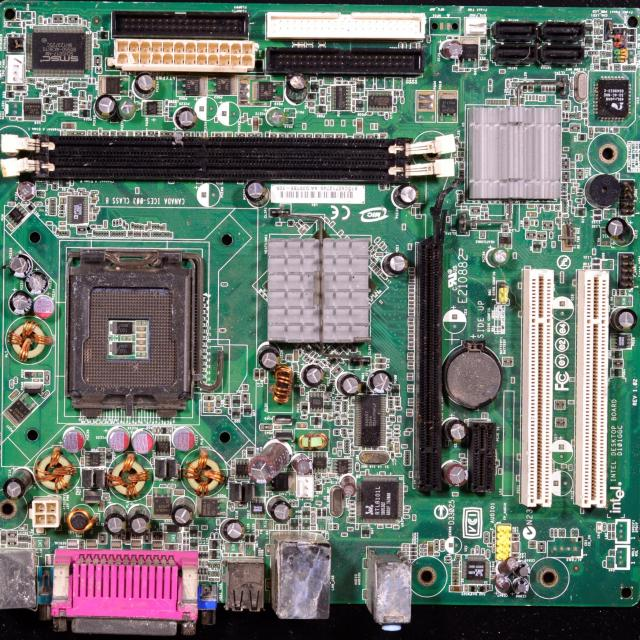Capacitor Jumper: (608, 218, 633, 245), (442, 40, 464, 59), (448, 585, 464, 592), (253, 117, 259, 131), (203, 401, 214, 408), (528, 80, 534, 92), (526, 211, 538, 217), (8, 391, 18, 398), (146, 495, 152, 506), (136, 346, 146, 352), (296, 423, 308, 428), (394, 443, 400, 453), (136, 326, 147, 331), (136, 340, 146, 345), (204, 408, 214, 413), (294, 351, 298, 361), (174, 490, 184, 494), (137, 334, 146, 338), (7, 224, 13, 230), (300, 387, 304, 395), (171, 448, 175, 456), (452, 571, 460, 575), (452, 575, 460, 579), (40, 16, 44, 24), (58, 226, 66, 230), (98, 448, 105, 452), (81, 458, 85, 465), (402, 543, 409, 547), (178, 544, 182, 551), (79, 96, 86, 100), (8, 202, 15, 206), (104, 221, 108, 228), (162, 223, 166, 230), (484, 412, 488, 418), (274, 426, 282, 429), (387, 444, 393, 448), (465, 584, 468, 592), (570, 78, 574, 84), (21, 92, 27, 96), (79, 105, 85, 109), (353, 120, 357, 126), (374, 124, 378, 130), (370, 124, 374, 130), (562, 128, 568, 132), (32, 12, 36, 18), (563, 147, 569, 151), (529, 545, 536, 548), (402, 548, 409, 551), (402, 552, 409, 555), (539, 95, 542, 102), (91, 197, 98, 200), (561, 199, 568, 202), (92, 210, 99, 213), (148, 222, 151, 229), (552, 241, 555, 248), (459, 68, 464, 72), (38, 78, 43, 82), (502, 100, 506, 105), (494, 100, 498, 105), (341, 121, 345, 126), (43, 19, 47, 24), (94, 32, 97, 38), (19, 34, 25, 37), (482, 413, 485, 419), (94, 39, 97, 45), (154, 426, 156, 435), (606, 44, 609, 50), (609, 44, 612, 50), (186, 544, 189, 550), (205, 560, 208, 566), (202, 560, 205, 566), (452, 582, 458, 585), (532, 95, 535, 101), (497, 99, 500, 105), (510, 102, 516, 105), (309, 109, 315, 112), (259, 119, 262, 125), (331, 120, 334, 126), (303, 123, 306, 129), (570, 162, 576, 165), (561, 189, 567, 192), (65, 192, 71, 195), (60, 198, 63, 204), (528, 205, 534, 208), (60, 222, 66, 225), (558, 223, 561, 229), (83, 20, 86, 26), (322, 473, 327, 476), (60, 80, 63, 85), (489, 86, 492, 91), (542, 86, 545, 91), (549, 86, 552, 91), (553, 86, 556, 91), (486, 99, 489, 104), (505, 100, 508, 105), (570, 165, 575, 168), (571, 179, 576, 182), (329, 474, 336, 476), (528, 542, 535, 544), (490, 584, 492, 591), (90, 213, 92, 220), (183, 545, 185, 551), (472, 549, 474, 555), (491, 576, 497, 578), (499, 70, 505, 72), (70, 81, 72, 87), (328, 96, 330, 102), (492, 100, 495, 104), (489, 100, 492, 104), (500, 99, 502, 105), (328, 106, 331, 110), (326, 120, 328, 126), (574, 184, 580, 186), (572, 190, 576, 193), (80, 18, 82, 24), (601, 20, 603, 26), (493, 546, 495, 551), (199, 561, 201, 566), (28, 78, 30, 83), (546, 86, 548, 91), (328, 88, 330, 93), (571, 188, 576, 190), (571, 91, 573, 95), (562, 186, 566, 188)
Connector: (2, 130, 457, 162), (52, 546, 202, 635), (6, 158, 454, 182), (580, 270, 610, 505), (525, 268, 551, 508), (267, 11, 426, 42), (267, 46, 426, 76), (112, 38, 255, 71), (111, 10, 250, 42), (368, 543, 409, 640), (276, 546, 324, 628), (222, 552, 265, 622), (469, 423, 491, 486), (7, 55, 24, 85), (496, 524, 510, 559)
IC: (26, 25, 92, 78), (356, 475, 403, 522), (594, 76, 632, 122), (355, 394, 387, 446), (462, 554, 491, 585), (67, 196, 88, 224), (5, 204, 27, 227), (368, 91, 392, 112), (332, 85, 351, 111), (24, 98, 42, 121), (155, 435, 171, 456), (58, 96, 79, 112), (142, 101, 163, 116), (331, 459, 353, 473), (309, 392, 323, 413), (313, 452, 327, 472), (209, 550, 220, 560), (210, 540, 218, 548)
Resistor Jumper: (97, 31, 109, 40), (44, 370, 50, 385), (160, 426, 170, 434), (588, 50, 598, 56), (434, 540, 440, 550), (588, 128, 594, 138), (42, 390, 49, 398), (484, 532, 489, 543), (440, 540, 445, 551), (9, 379, 14, 388), (102, 496, 110, 501), (599, 50, 603, 58), (506, 80, 510, 88), (87, 101, 91, 109), (156, 427, 160, 434), (476, 546, 480, 553), (420, 552, 427, 556), (596, 56, 600, 63), (614, 68, 621, 72), (62, 198, 66, 205), (34, 202, 41, 206), (49, 208, 56, 212), (22, 21, 26, 28), (594, 27, 597, 36), (169, 426, 172, 435), (7, 33, 13, 37), (603, 52, 607, 58), (217, 562, 220, 570), (464, 68, 470, 72), (570, 84, 574, 90), (78, 188, 84, 192), (420, 545, 427, 548), (420, 549, 427, 552), (593, 56, 596, 63), (561, 183, 568, 186), (71, 192, 78, 195), (82, 192, 89, 195), (49, 198, 56, 201), (563, 214, 568, 218), (13, 34, 19, 37), (614, 64, 620, 67), (99, 67, 102, 73), (489, 79, 492, 85), (6, 85, 12, 88), (6, 88, 12, 91), (89, 95, 92, 101), (92, 190, 98, 193), (59, 193, 65, 196), (50, 205, 56, 208), (50, 212, 56, 215), (32, 18, 35, 24), (26, 21, 32, 24), (212, 562, 214, 570), (579, 111, 581, 119), (22, 202, 30, 204), (598, 19, 600, 27), (594, 19, 596, 27), (633, 43, 636, 48), (96, 67, 99, 72), (578, 192, 583, 195), (23, 29, 26, 34), (49, 202, 56, 204), (92, 208, 99, 210), (598, 27, 600, 34), (103, 494, 109, 496), (568, 194, 570, 200), (561, 196, 567, 198), (562, 193, 567, 195)
Transistor: (6, 394, 37, 426), (250, 80, 284, 102), (176, 76, 208, 97), (197, 497, 227, 519), (152, 488, 173, 519), (438, 91, 458, 123), (98, 76, 129, 96), (460, 36, 479, 68), (208, 75, 238, 95), (498, 232, 512, 249), (361, 525, 371, 537), (600, 58, 608, 72), (584, 36, 594, 47), (79, 109, 91, 118), (315, 105, 326, 114), (594, 38, 602, 50), (312, 81, 320, 93), (302, 507, 310, 518), (290, 518, 298, 529), (302, 519, 310, 530), (356, 100, 364, 111), (533, 241, 541, 252), (60, 179, 70, 187), (576, 208, 586, 216), (357, 81, 364, 92), (585, 23, 592, 34), (27, 203, 35, 212), (628, 28, 636, 36), (308, 92, 316, 100), (43, 97, 52, 104), (628, 36, 636, 42), (578, 134, 586, 140)
